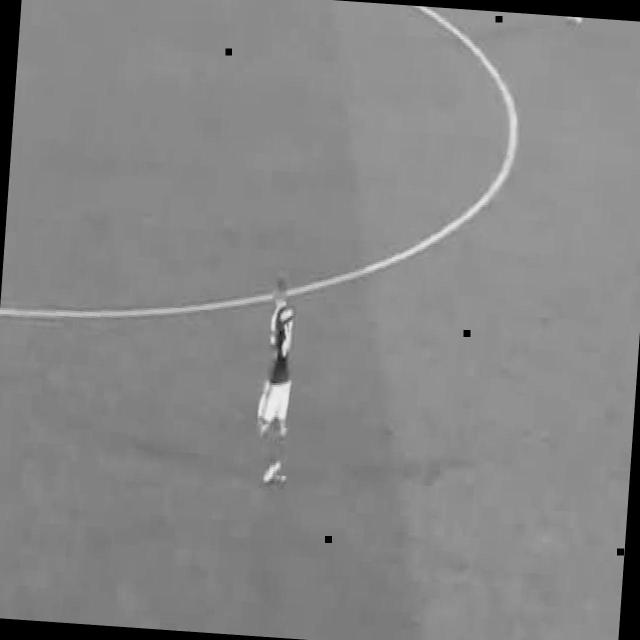player-white: (252, 278, 300, 488), (562, 16, 614, 30)
